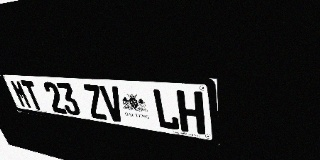2: (42, 81, 67, 114)
3: (56, 82, 82, 116)
H: (176, 90, 205, 135)
L: (151, 88, 180, 131)
M: (9, 79, 33, 109)
T: (20, 80, 45, 111)
V: (99, 85, 126, 123)
Z: (81, 84, 108, 120)
